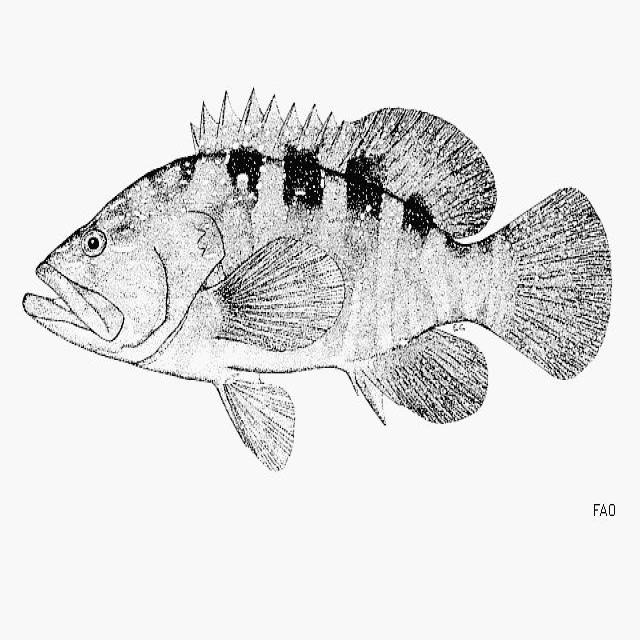ikan: (21, 85, 612, 472)
